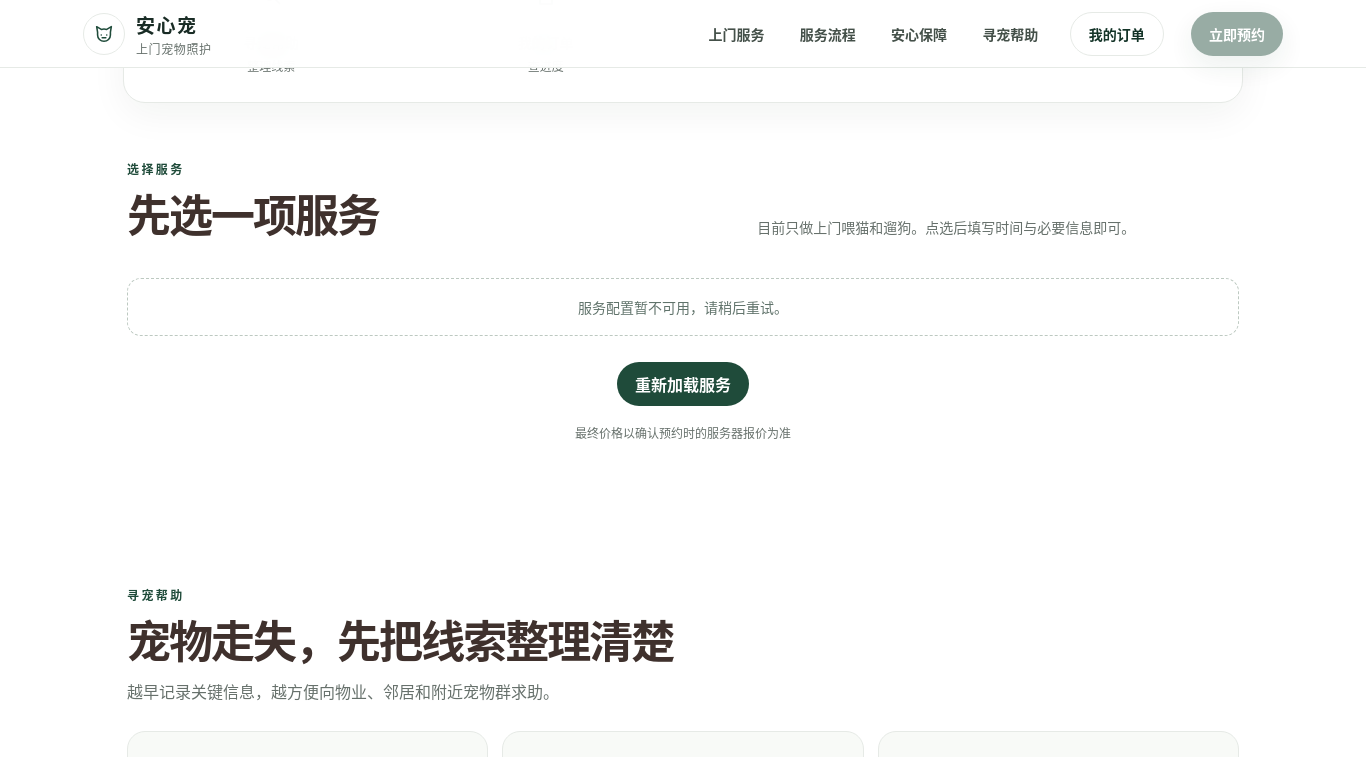
Test: PilotApp › recovers the public service catalog after a transient first-load failure
This screenshot has width=1366, height=757.
(page scrolled)
Click the button "重新加载服务": (683, 384) [617,362,749,406]
(page scrolled)
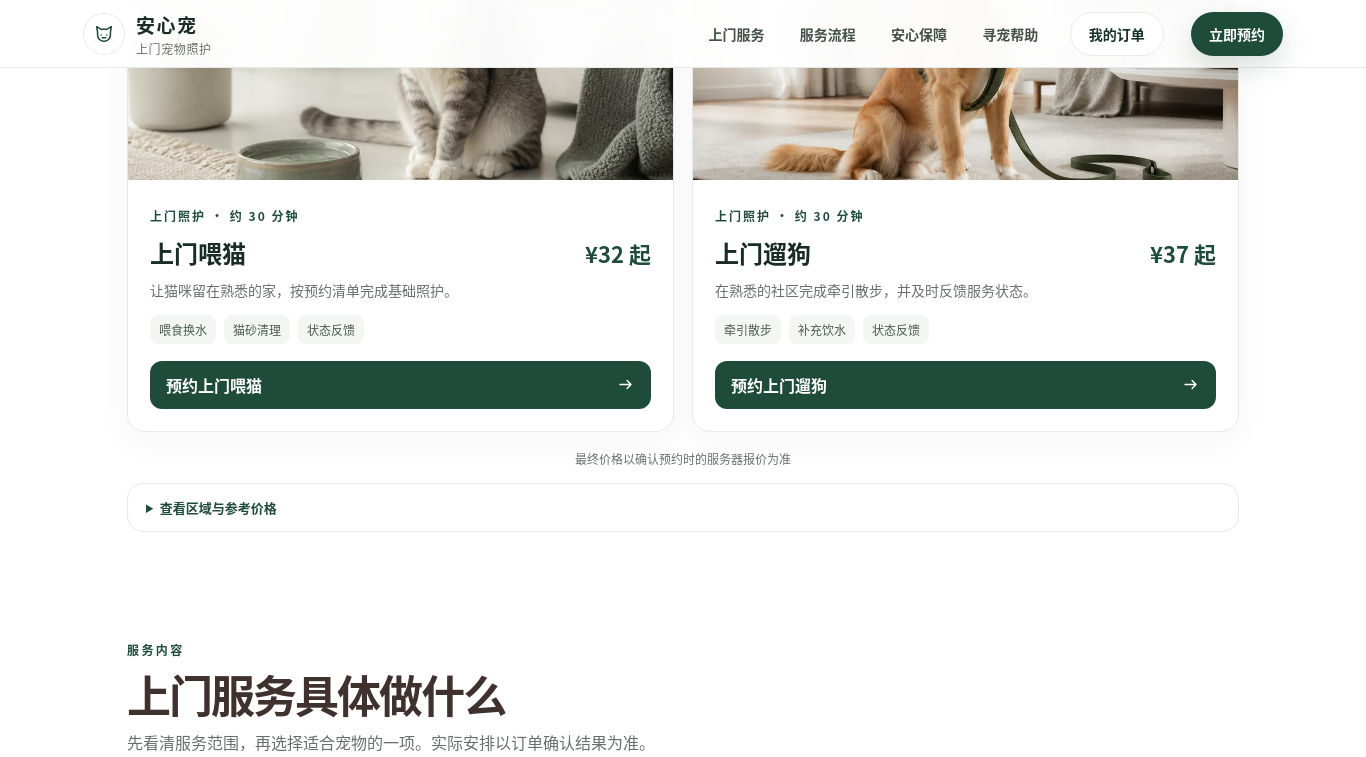
Result: the button "预约上门喂猫" is shown at [150,361,651,409]
